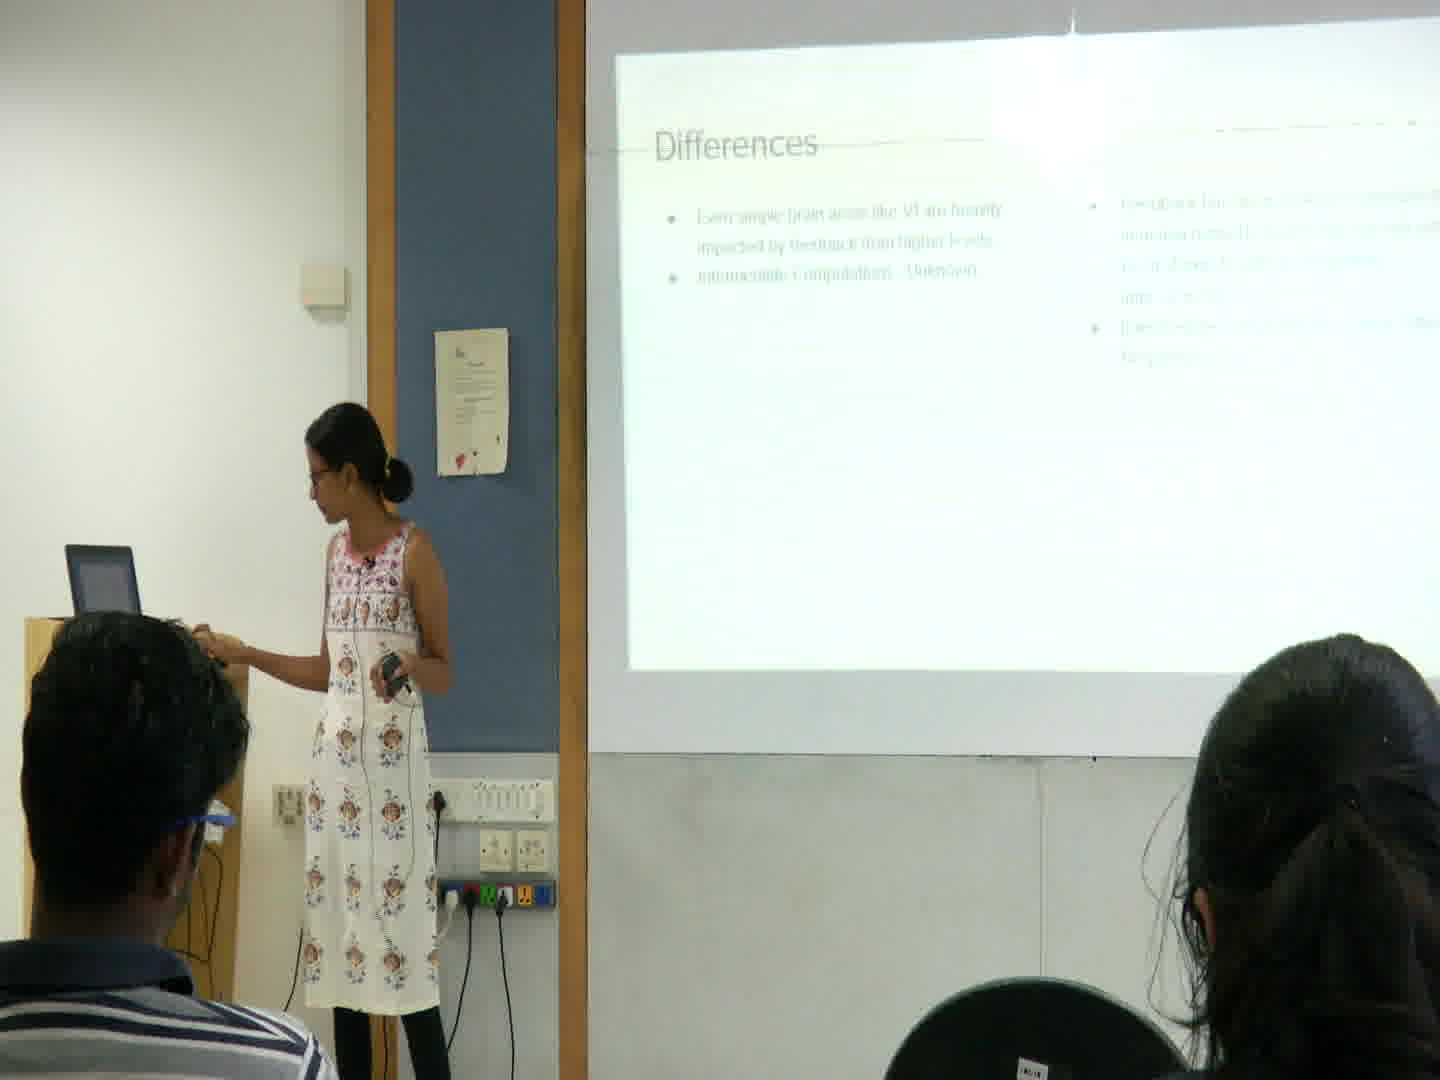slide: (618, 15, 1440, 674)
